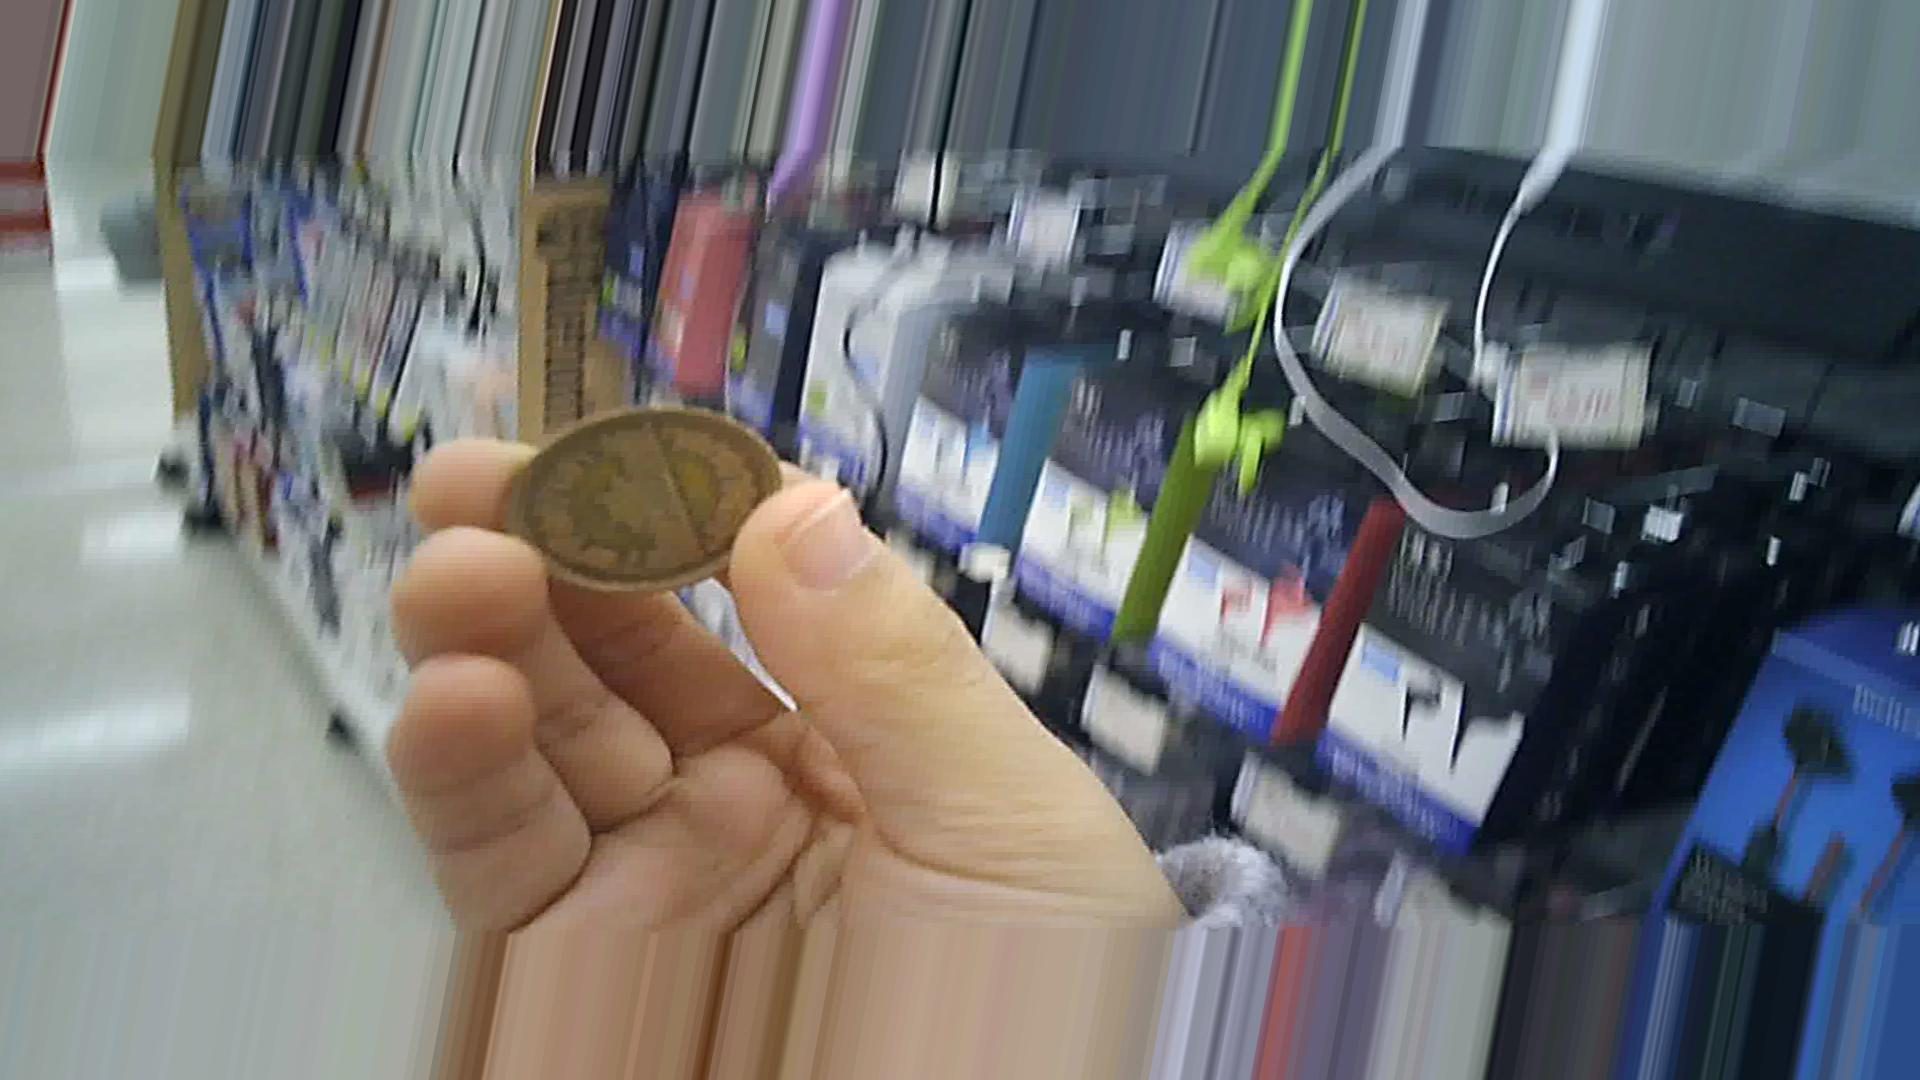10 Yen: (496, 402, 787, 604)
